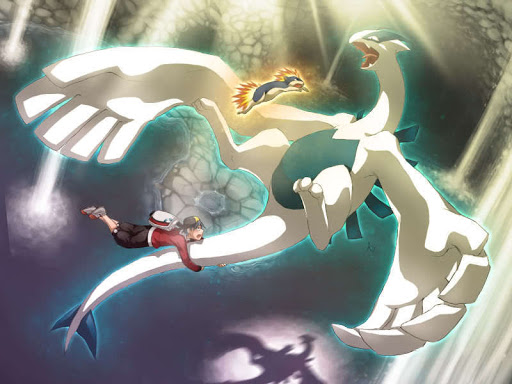lugia: (348, 28, 410, 78)
